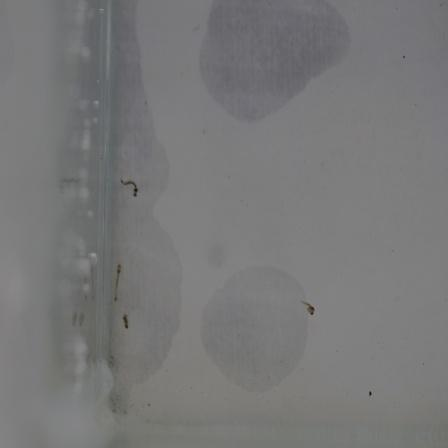Jentik-Nyamuk: (108, 260, 126, 304), (118, 174, 141, 202), (299, 297, 318, 319), (120, 311, 131, 333)
